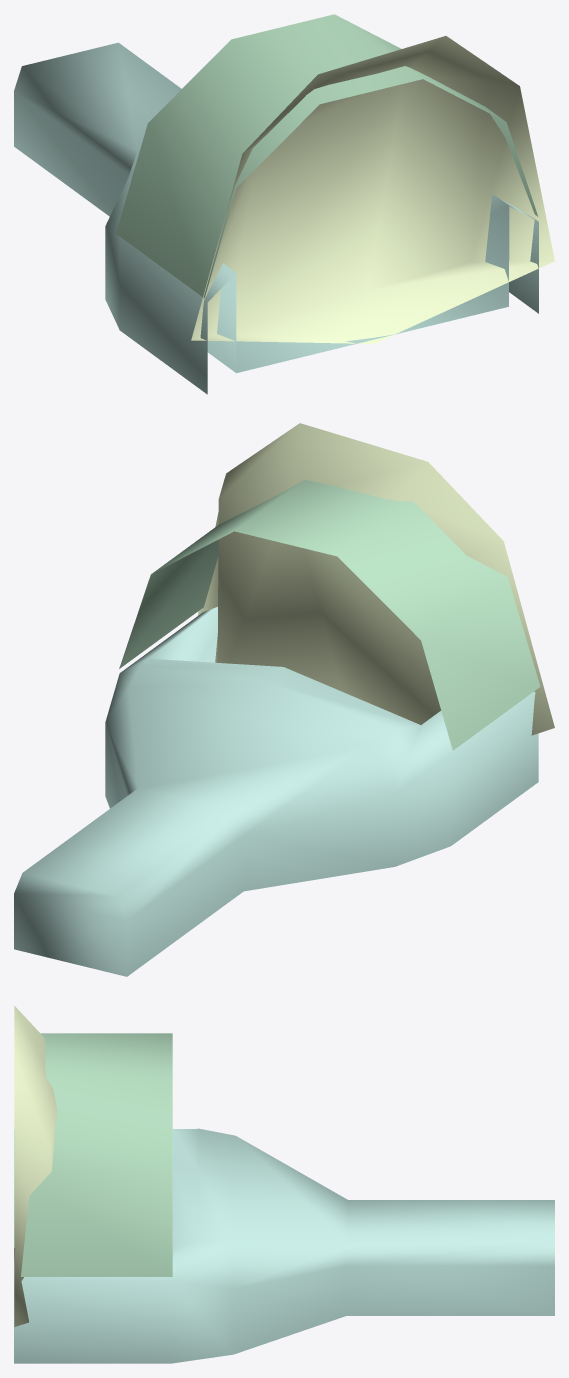
The picture shows the model from 3 angles, top to bottom: view 1: azimuth 30°, elevation 25°; view 2: azimuth 150°, elevation 25°; view 3: azimuth 270°, elevation 25°; orthographic projection. The views are drawn at different scales.
Parts seen in each view (by area): view 1: Object37; view 2: Object37; view 3: Object37.
Part boxes in pixels (x1,y1,x2,y2): Object37: [14, 14, 554, 394]; Object37: [14, 423, 554, 976]; Object37: [14, 1006, 554, 1363].
Size of the model in its own units: 15271 by 12060 by 22004.
